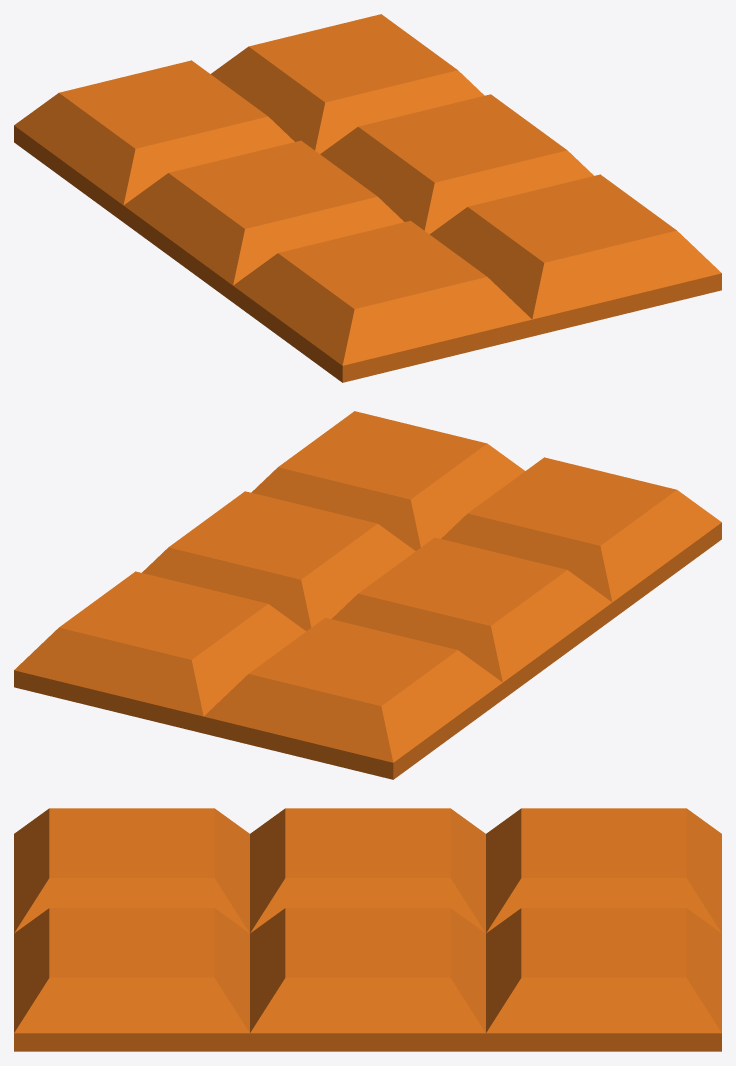
The model's file is Chocolate.fbx.
3 views of the same model, one above another, from view 1: azimuth 30°, elevation 25°; view 2: azimuth 150°, elevation 25°; view 3: azimuth 270°, elevation 25° (orthographic). The views are drawn at different scales.
Parts seen in each view (by area): view 1: Cube; view 2: Cube; view 3: Cube.
Boxes of the visible parts, left/top/right/bottom form: Cube: left=14, top=14, right=721, bottom=382; Cube: left=14, top=411, right=721, bottom=779; Cube: left=14, top=808, right=721, bottom=1051.
Bounding box in the file's own units: 400 × 55.12 × 600.
